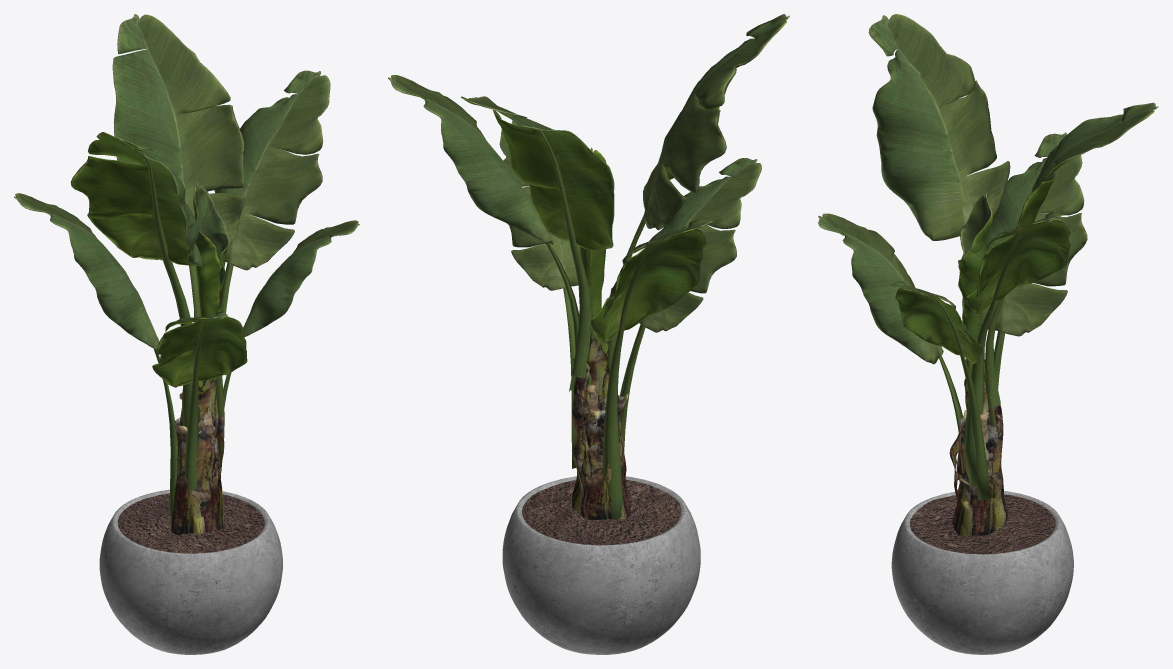
The model's file is plant_9.glb.
3 views of the same model, side by side, from view 1: azimuth 30°, elevation 25°; view 2: azimuth 150°, elevation 25°; view 3: azimuth 270°, elevation 25° (orthographic). The views are drawn at different scales.
Visible parts, largest first — view 1: Plants_VOL01_09; view 2: Plants_VOL01_09; view 3: Plants_VOL01_09.
Part boxes in pixels (x1,y1,x2,y2): Plants_VOL01_09: (14, 14, 359, 654); Plants_VOL01_09: (388, 14, 789, 654); Plants_VOL01_09: (818, 14, 1158, 654).
Size of the model in its own units: 0.8184 by 1.46 by 0.8075.
Materials: 6 (6 with a texture image).
